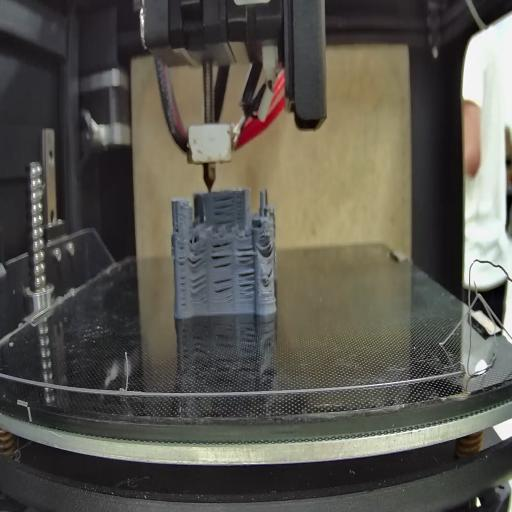cracks: (176, 246, 187, 308), (212, 239, 233, 271), (212, 198, 235, 224), (213, 274, 234, 302), (237, 268, 255, 298), (188, 242, 205, 267), (190, 273, 208, 296), (237, 246, 255, 264), (261, 238, 277, 253), (265, 264, 274, 278), (174, 222, 180, 236)
